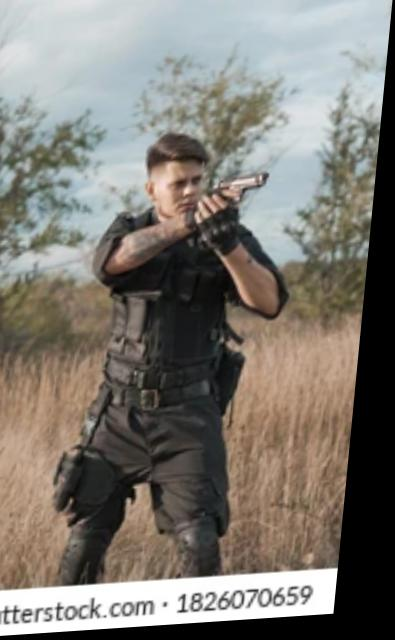other: (71, 124, 275, 554)
